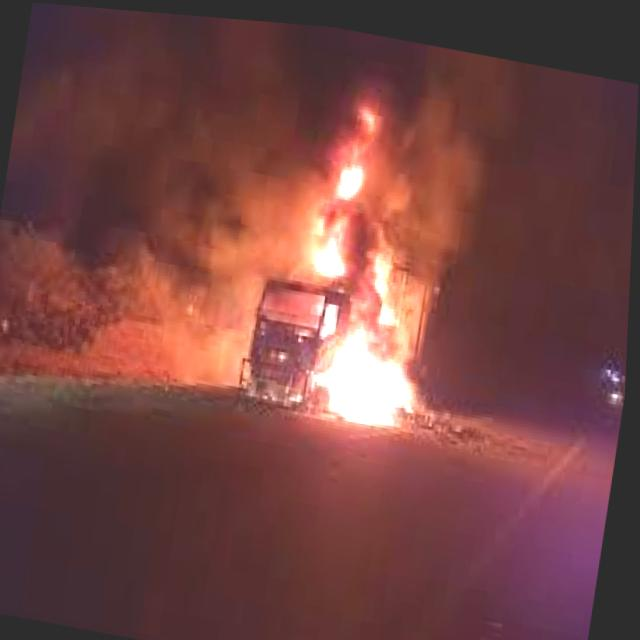helmet: (278, 265, 445, 424)
no_helmet: (166, 42, 480, 295)
